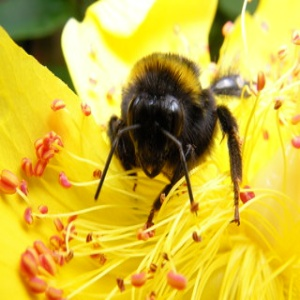bee: (112, 50, 246, 229)
